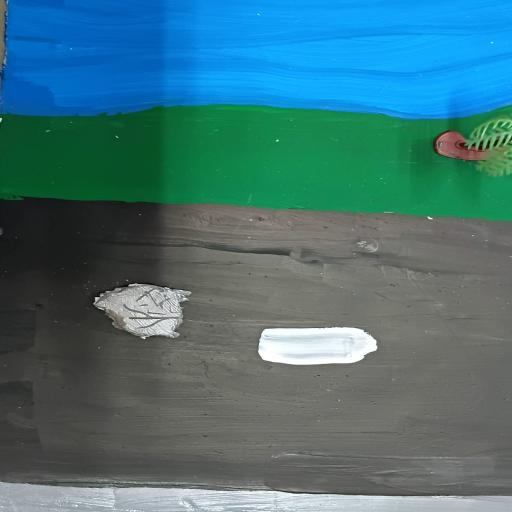porthole: (83, 279, 208, 345)
